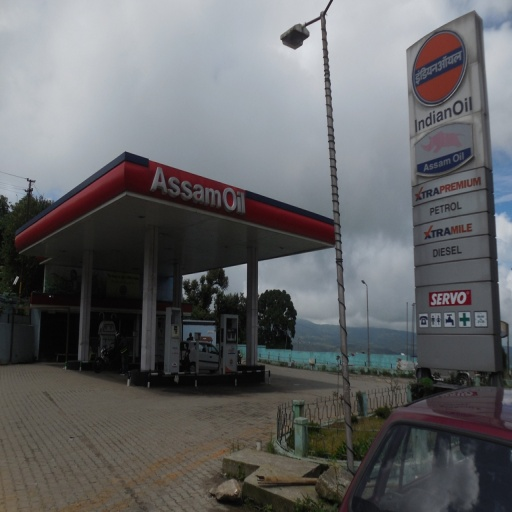roof: (12, 154, 339, 273)
